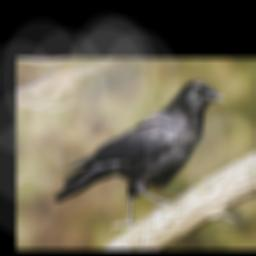Crow: (53, 80, 229, 233)
